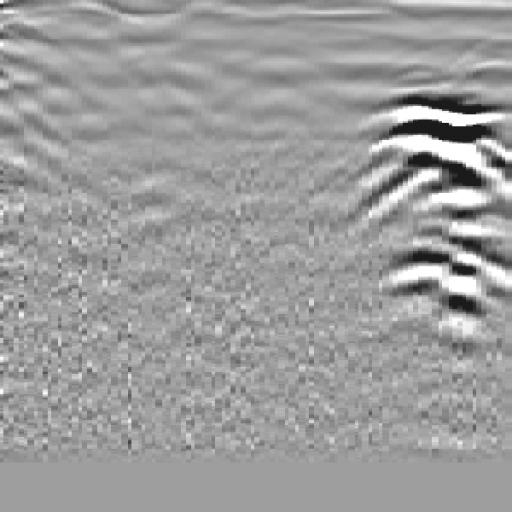metalic: (353, 59, 512, 397)
